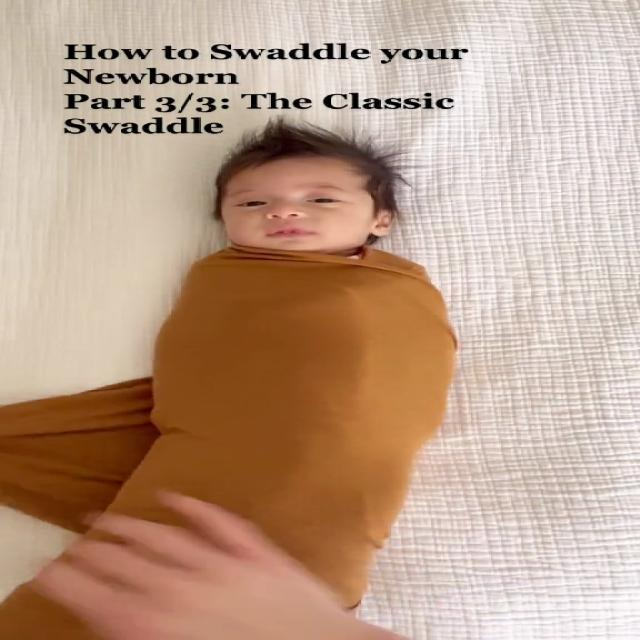baby: (9, 129, 460, 631)
